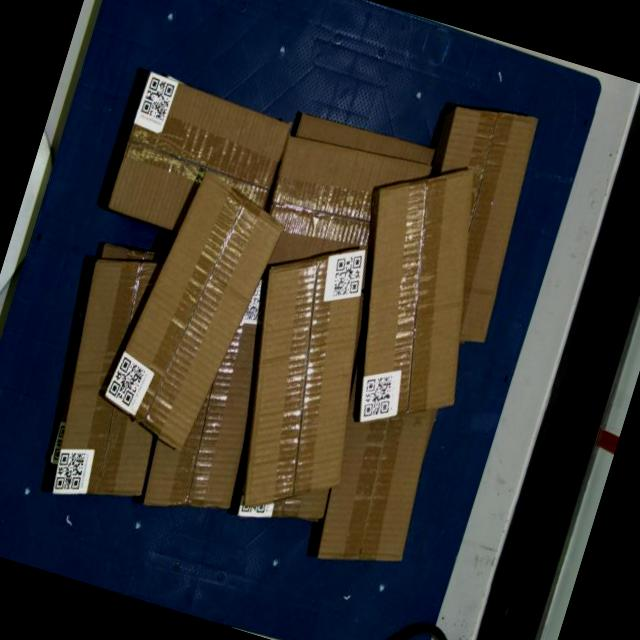box: (199, 222, 408, 530), (313, 144, 522, 448), (94, 160, 293, 462)
